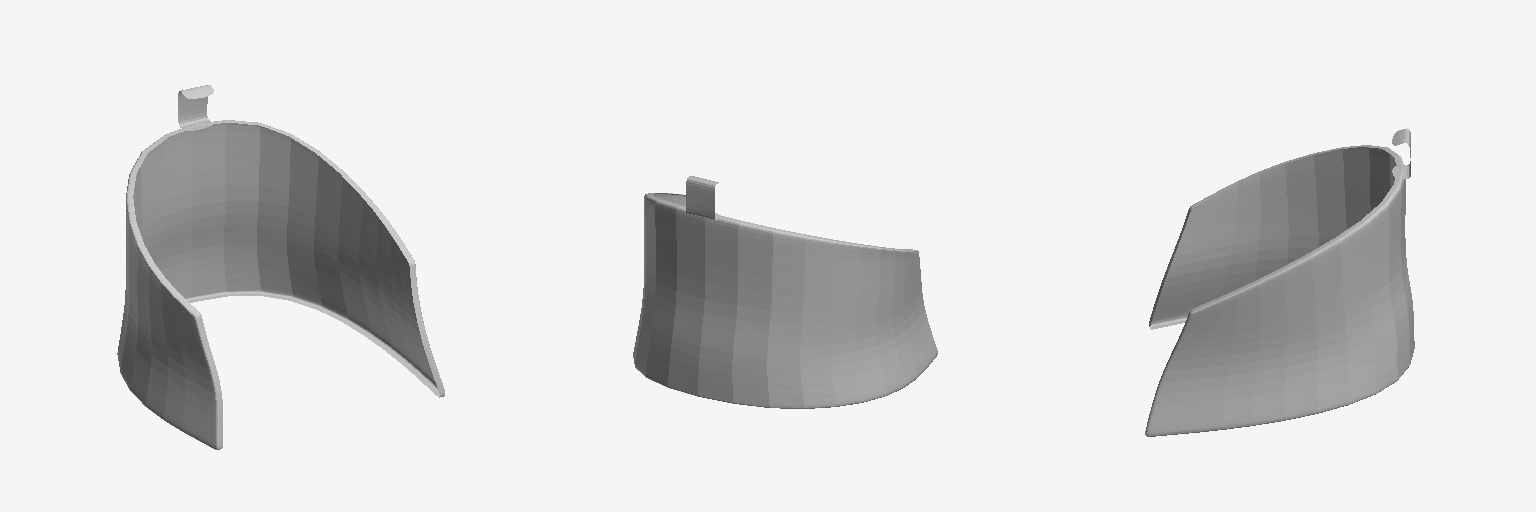
The model's file is back.obj.
The picture shows the model from 3 angles: view 1: azimuth 30°, elevation 25°; view 2: azimuth 150°, elevation 25°; view 3: azimuth 270°, elevation 25°; orthographic projection.
Parts seen in each view (by area): view 1: Back_Back.001, Back_logos_hingy.001; view 2: Back_Back.001, Back_logos_hingy.001; view 3: Back_Back.001.
Part boxes in pixels (bbox=[...]): Back_Back.001: bbox=[117, 120, 444, 449]; Back_logos_hingy.001: bbox=[178, 85, 213, 130]; Back_Back.001: bbox=[633, 193, 937, 408]; Back_logos_hingy.001: bbox=[686, 176, 718, 219]; Back_Back.001: bbox=[1145, 145, 1414, 436].
Bounding box in the file's own units: 1.92 × 1.81 × 1.81.